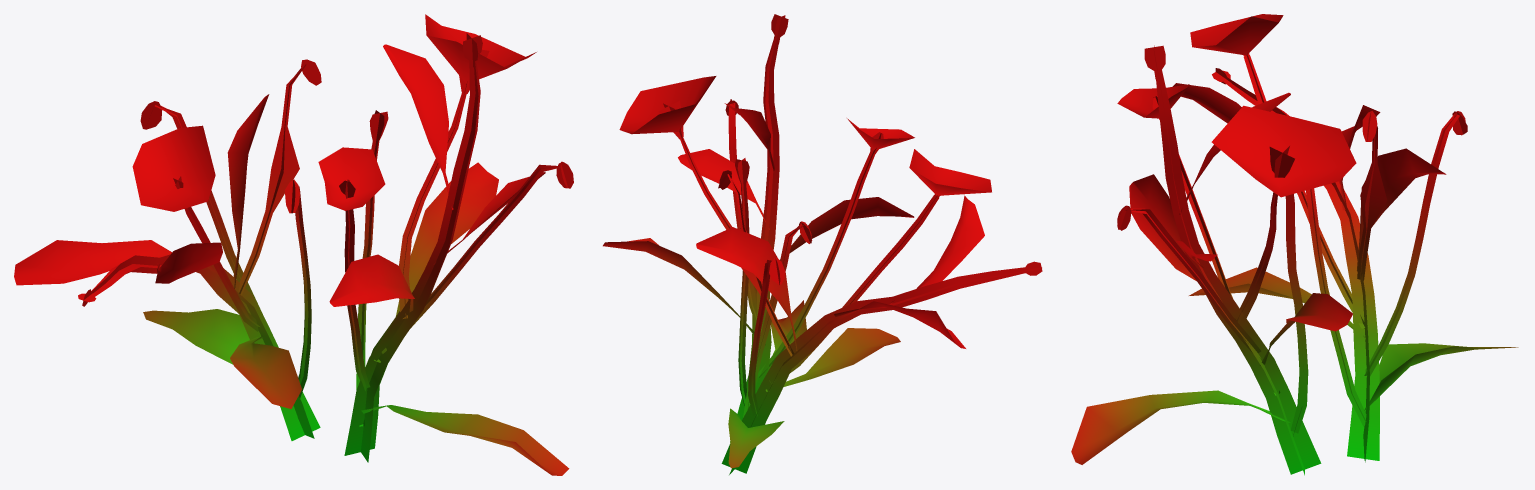
Rendered from Field Poppy_LOD2_Var6_vmcobd0ja.fbx.
3 views of the same model, side by side, from view 1: azimuth 30°, elevation 25°; view 2: azimuth 150°, elevation 25°; view 3: azimuth 270°, elevation 25° (orthographic). The views are drawn at different scales.
Visible parts, largest first — view 1: _8za8_Var6_LOD2; view 2: _8za8_Var6_LOD2; view 3: _8za8_Var6_LOD2.
Boxes of the visible parts, x1=… form: _8za8_Var6_LOD2: x1=14, y1=14, x2=573, y2=475; _8za8_Var6_LOD2: x1=603, y1=14, x2=1042, y2=474; _8za8_Var6_LOD2: x1=1071, y1=14, x2=1518, y2=475.
Size of the model in its own units: 43.12 by 40.35 by 37.1.
